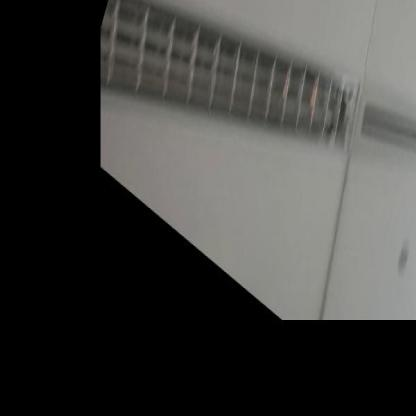light_off: (85, 0, 367, 285)
